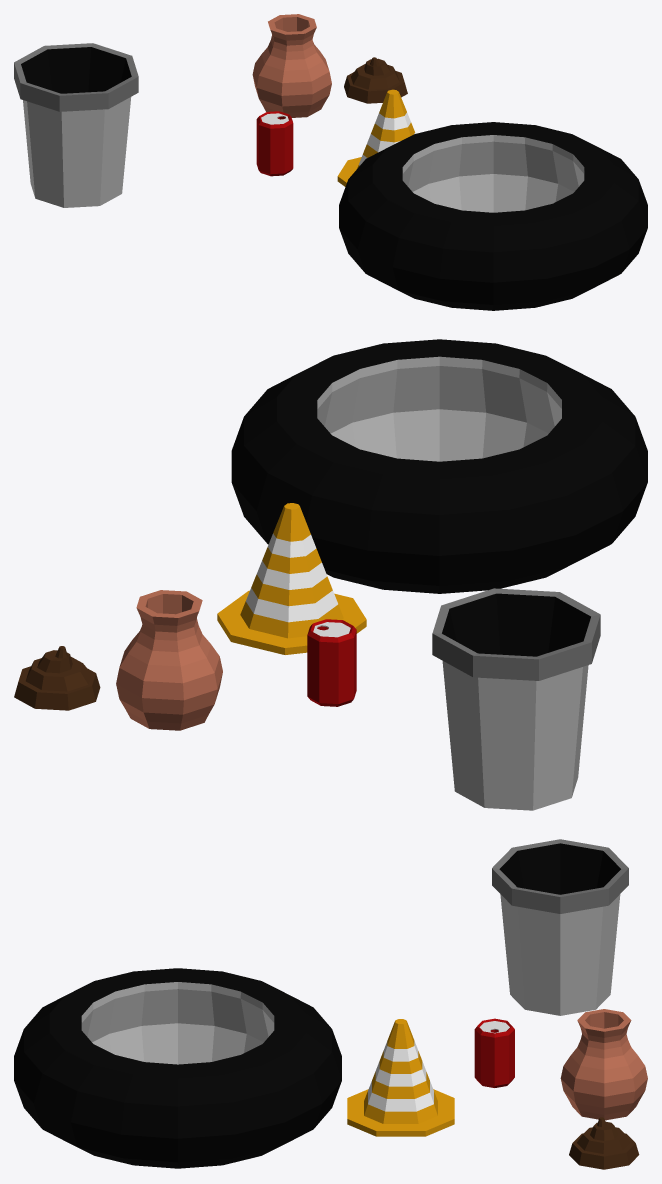
Rendered from props.fbx.
The picture shows the model from 3 angles, top to bottom: view 1: azimuth 30°, elevation 25°; view 2: azimuth 150°, elevation 25°; view 3: azimuth 270°, elevation 25°; orthographic projection. The views are drawn at different scales.
Visible parts, largest first — view 1: Torus, Cylinder.002, Cylinder.001, Cylinder, Cube, Cylinder.003; view 2: Torus, Cylinder.002, Cylinder.001, Cube, Cylinder, Cylinder.003; view 3: Torus, Cylinder.002, Cube, Cylinder.001, Cylinder, Cylinder.003.
Boxes of the visible parts, box(x1,y1,x2,y2) form: Torus: box(339, 122, 647, 310); Cylinder.002: box(14, 43, 138, 207); Cylinder.001: box(252, 14, 331, 117); Cylinder: box(256, 111, 293, 176); Cube: box(337, 89, 415, 186); Cylinder.003: box(344, 57, 407, 103); Torus: box(231, 339, 647, 593); Cylinder.002: box(432, 588, 600, 810); Cylinder.001: box(116, 590, 222, 730); Cube: box(217, 503, 366, 654); Cylinder: box(307, 619, 356, 706); Cylinder.003: box(14, 646, 100, 710); Torus: box(14, 968, 341, 1168); Cylinder.002: box(492, 839, 628, 1015); Cube: box(347, 1019, 454, 1136); Cylinder.001: box(560, 1009, 647, 1120); Cylinder: box(474, 1018, 514, 1087); Cylinder.003: box(569, 1117, 639, 1169).
Size of the model in its own units: 1670 by 444 by 2014.
